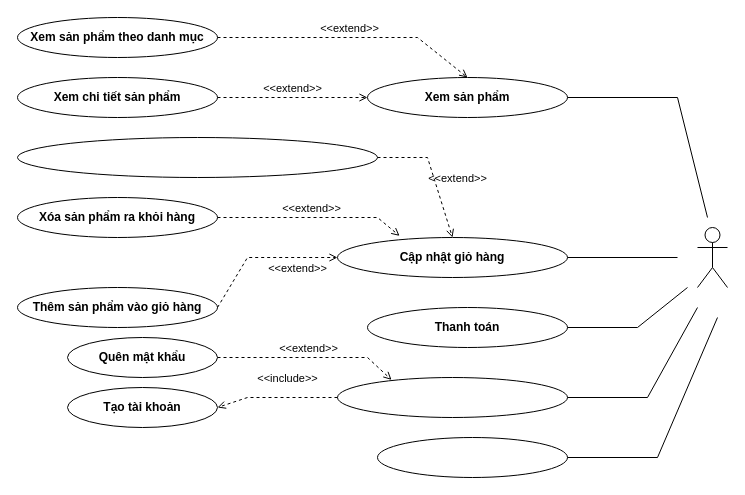
The diagram is 745 pixels wide and 495 high, and some of its shapes have lost their labels. The shapes that lost their labels are listed below. From the top down, each one's centre as x and y in pixels, then its label:
At (x=197, y=157): "Thêm hoặc giảm số lượng một sản phẩm".
At (x=712, y=257): "User".
At (x=452, y=397): "Đăng nhập dưới quyền khách hàng".
At (x=472, y=457): "Tìm kiếm theo tên, giá, màu".
